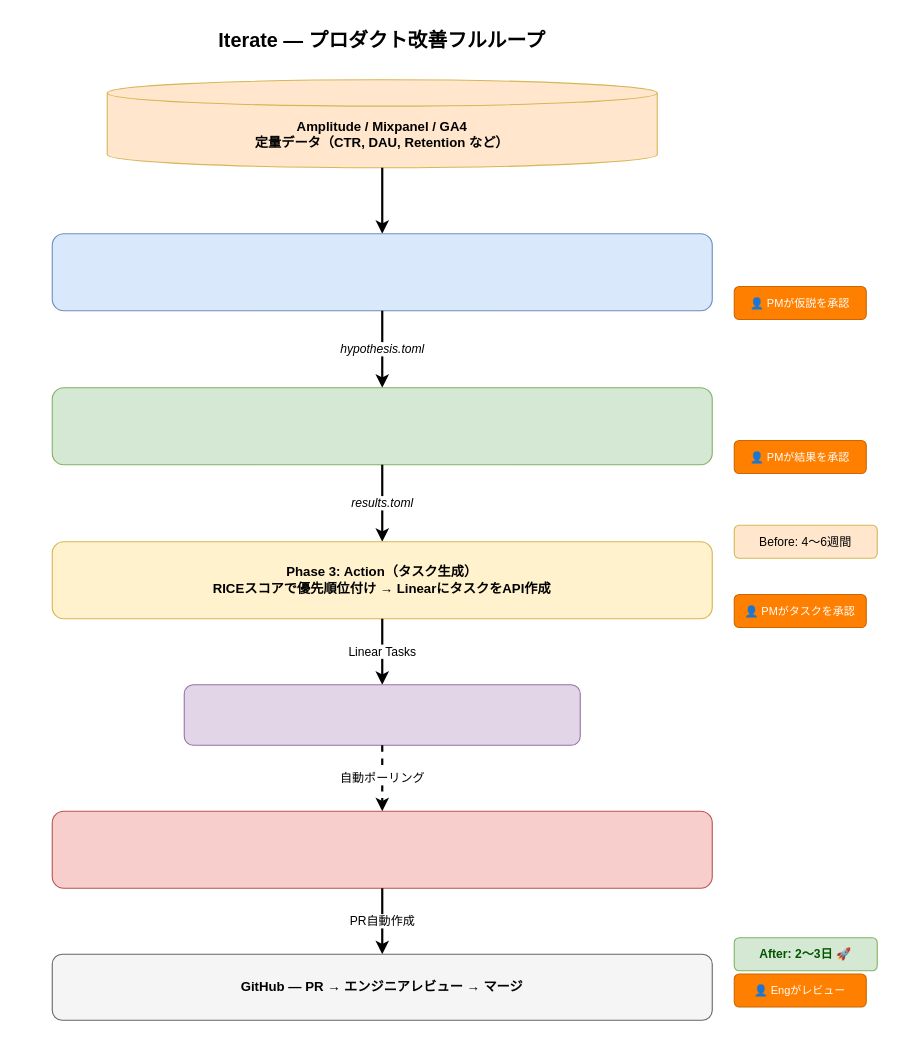
Image size: 897x1040. Some labels were removed from this diagram. Each missing label, with the box of its shape:
Linear（タスク管理）: (183, 684, 580, 745)
Phase 1: Discovery（仮説生成） PMがAIと壁打ちチャット → インタビュー設計 or A-Zテスト設計: (51, 233, 712, 311)
Phase 2: Research（AIインタビュー） AIが実ユーザー（50人）にインタビューを自動実施: (51, 387, 712, 465)
Symphony（~/dev/kanban） タスクを検知 → 隔離ワークスペースでコーディングエージェントを起動: (51, 810, 712, 888)
